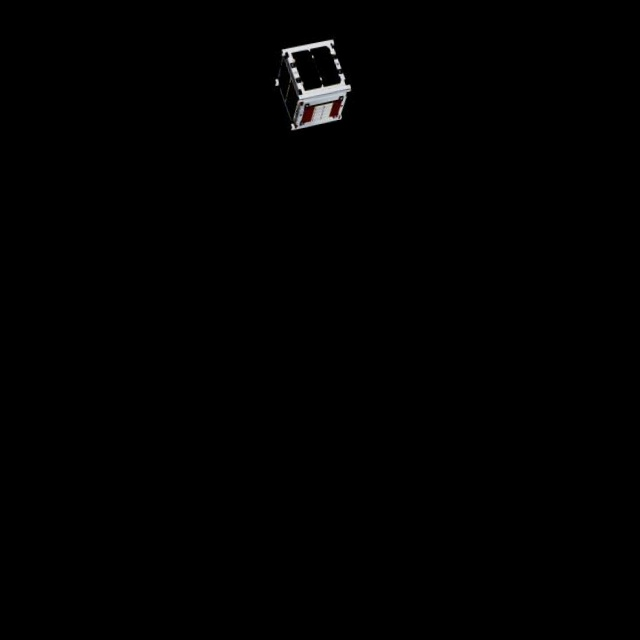medium_debris: (265, 32, 360, 141)
